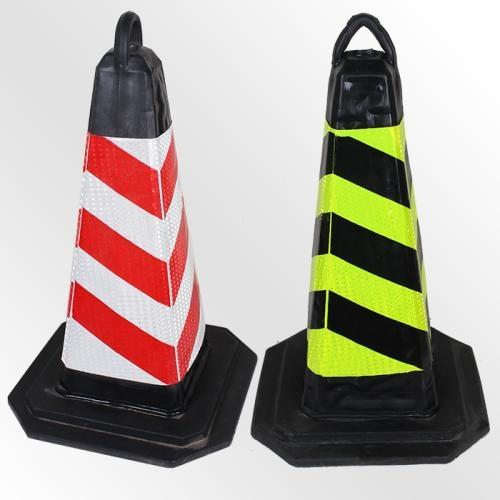cone_barrel: (260, 13, 474, 466), (23, 11, 246, 438)
